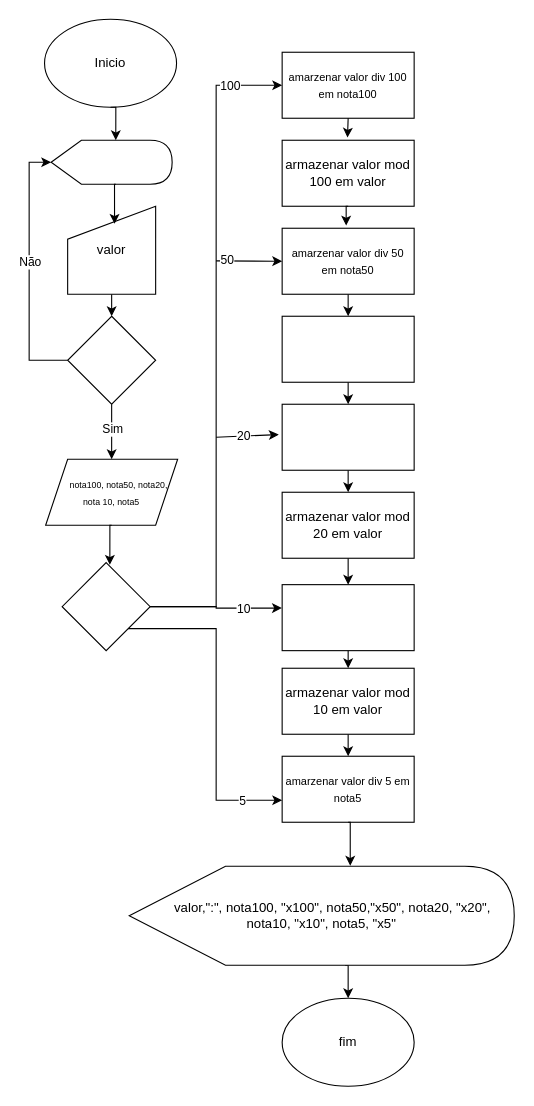
Some shapes in this 534 by 1106 pixel diagram are drawn without their labels. The shapes that lost their labels are listed below. From the top down, each one's centre as x and y in pixels, then its label:
At point 111,161: "Insira um valor".
At point 111,359: "valor é numérico?".
At point 347,348: "armazenar valor mod 50 em valor".
At point 347,436: "amarzenar valor div 20 em nota20".
At point 105,606: "maior ou igual a".
At point 347,617: "amarzenar valor div 10 em nota10".
